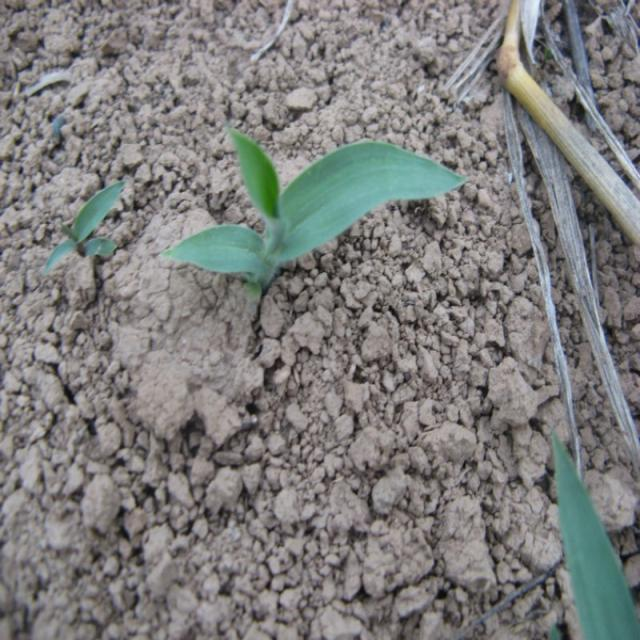bg: (164, 118, 467, 289)
